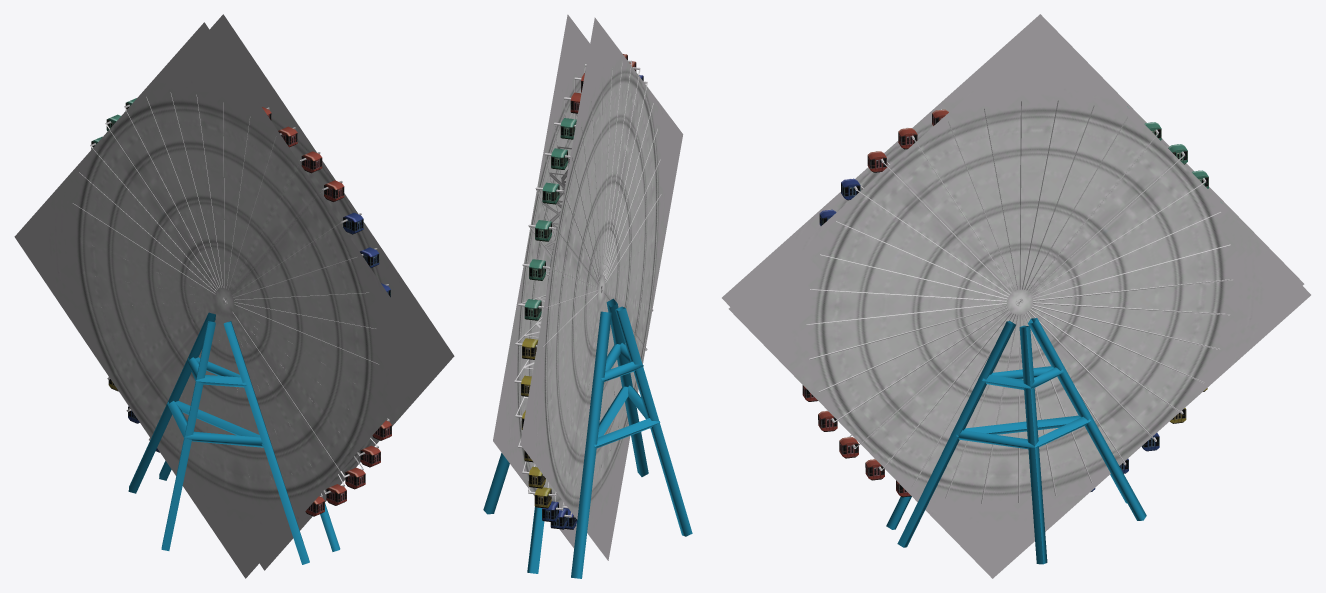
Rendered from ferris_wheel.glb.
The picture shows the model from 3 angles, left to right: view 1: azimuth 30°, elevation 25°; view 2: azimuth 150°, elevation 25°; view 3: azimuth 270°, elevation 25°; orthographic projection. The views are drawn at different scales.
Parts seen in each view (by area): view 1: ferris_wheel; view 2: ferris_wheel; view 3: ferris_wheel.
Part boxes in pixels (box(x1,y1,x2,y2)): ferris_wheel: box(14, 14, 454, 578); ferris_wheel: box(483, 14, 692, 578); ferris_wheel: box(722, 14, 1310, 578).
Bounding box in the file's own units: 46.54 × 140 × 136.
4 materials, 4 textured.
